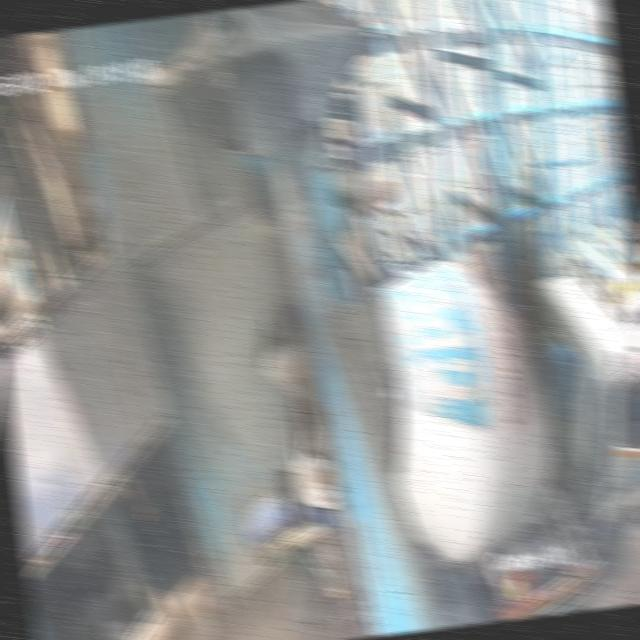cement_mixer_truck: (254, 255, 640, 640)
swing_chute: (225, 121, 339, 339)
